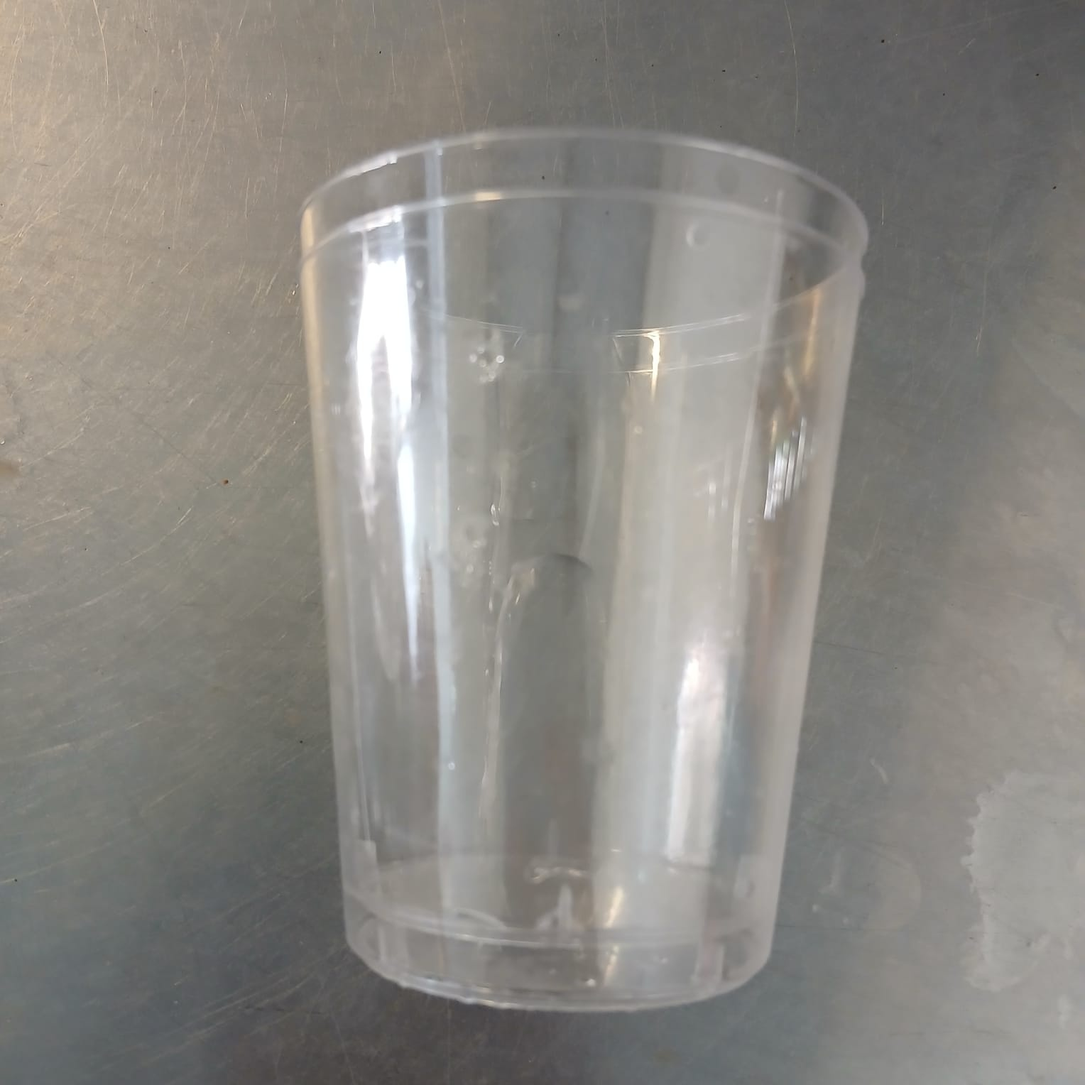Plastico: (300, 121, 870, 1012)
